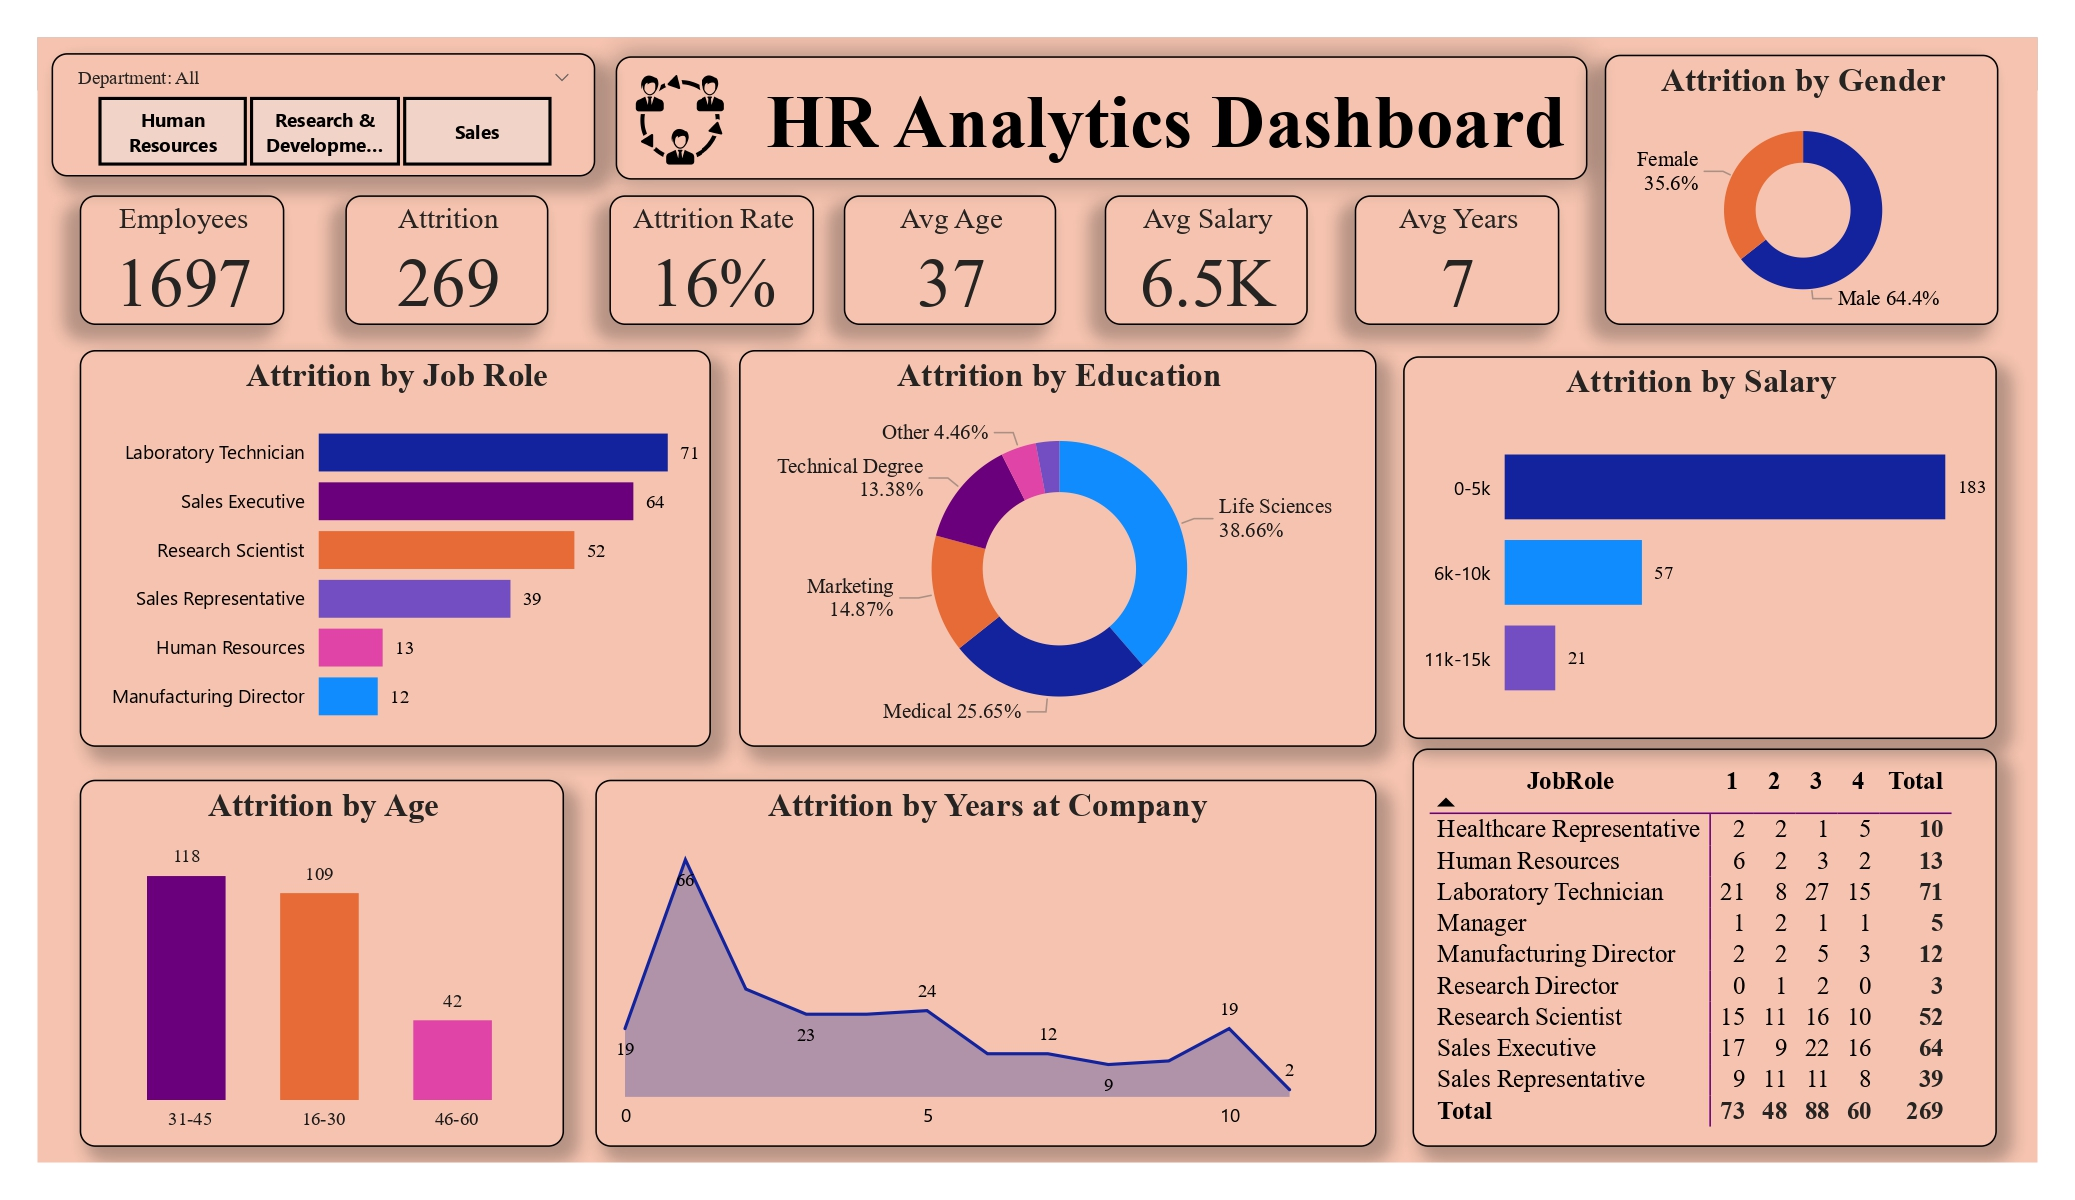

What the dashboard file says about the page in this screenshot:
{"tool":"powerbi","page":{"name":"Page 1","canvas":[1280,720],"ordinal":0},"visuals":[{"type":"textbox","box":[370.1,11.5,622.1,79.2],"z":0},{"type":"card","title":"Employees","fields":{"Values":["CountNonNull(HR-Employee-Attrition.EmployeeNumber)"]},"box":[27.2,101.2,130.3,82.7],"z":1000},{"type":"card","title":"Avg Age","fields":{"Values":["Avg(HR-Employee-Attrition.Age)"]},"box":[515.5,100.8,136.8,83.5],"z":2000},{"type":"card","title":"Attrition","fields":{"Values":["Sum(HR-Employee-Attrition.AttritionCount)"]},"box":[197.3,100.8,129.6,83.5],"z":3000},{"type":"card","title":"Attrition Rate","fields":{"Values":["HR-Employee-Attrition.AttritionRate"]},"box":[365.8,100.8,131,83.5],"z":4000},{"type":"card","title":"Avg Salary","fields":{"Values":["Avg(HR-Employee-Attrition.MonthlyIncome)"]},"box":[682.8,101.2,130.3,82.7],"z":5000},{"type":"card","title":"Avg Years","fields":{"Values":["Avg(HR-Employee-Attrition.YearsAtCompany)"]},"box":[843.3,101.2,130.3,82.7],"z":6000},{"type":"donutChart","title":" Attrition by Education","fields":{"Category":["HR-Employee-Attrition.EducationField"],"Y":["Sum(HR-Employee-Attrition.AttritionCount)"]},"box":[449,200,407.8,254.3],"z":7000},{"type":"columnChart","title":" Attrition by Age","fields":{"Y":["Sum(HR-Employee-Attrition.AttritionCount)"],"Category":["HR-Employee-Attrition.AgeGroup"]},"box":[27.2,475.3,309.6,235],"z":8000},{"type":"pivotTable","fields":{"Rows":["HR-Employee-Attrition.JobRole"],"Columns":["HR-Employee-Attrition.JobSatisfaction"],"Values":["Sum(HR-Employee-Attrition.AttritionCount)"]},"box":[879.8,455,374.4,254.9],"z":9000},{"type":"clusteredBarChart","title":"Attrition by Job Role","fields":{"Category":["HR-Employee-Attrition.JobRole"],"Y":["Sum(HR-Employee-Attrition.AttritionCount)"]},"box":[27.2,200,404.3,254.3],"z":10000},{"type":"areaChart","title":"Attrition by Years at Company","fields":{"Category":["HR-Employee-Attrition.YearsAtCompany"],"Y":["Sum(HR-Employee-Attrition.AttritionCount)"]},"box":[356.9,475.3,499.9,235],"z":11000},{"type":"barChart","title":"Attrition by Salary","fields":{"Y":["Sum(HR-Employee-Attrition.AttritionCount)"],"Category":["HR-Employee-Attrition.Salary"]},"box":[874.1,204.5,380.2,244.8],"z":12000},{"type":"donutChart","title":"Attrition by Gender","fields":{"Category":["HR-Employee-Attrition.Gender"],"Y":["Sum(HR-Employee-Attrition.AttritionCount)"]},"box":[1002.8,10.7,251.9,173.1],"z":13000},{"type":"slicer","fields":{"Values":["HR-Employee-Attrition.Department"]},"box":[8.6,10.1,348.5,79.2],"z":14000},{"type":"image","box":[373,14.4,76.3,76.3],"z":14001}]}

Visuals, with their boxes in screenshot pixels (x1, y1, x2, y2):
textbox: box=[581, 35, 1575, 161]
"Employees" card: box=[33, 178, 241, 310]
"Avg Age" card: box=[813, 177, 1032, 311]
"Attrition" card: box=[305, 177, 512, 311]
"Attrition Rate" card: box=[574, 177, 783, 311]
"Avg Salary" card: box=[1081, 178, 1289, 310]
"Avg Years" card: box=[1337, 178, 1546, 310]
" Attrition by Education" donutChart: box=[707, 336, 1359, 742]
" Attrition by Age" columnChart: box=[33, 776, 528, 1152]
pivotTable - HR-Employee-Attrition.JobRole x HR-Employee-Attrition.JobSatisfaction: box=[1396, 744, 1994, 1151]
"Attrition by Job Role" clusteredBarChart: box=[33, 336, 679, 742]
"Attrition by Years at Company" areaChart: box=[560, 776, 1359, 1152]
"Attrition by Salary" barChart: box=[1387, 343, 1994, 734]
"Attrition by Gender" donutChart: box=[1592, 33, 1995, 310]
slicer - HR-Employee-Attrition.Department: box=[3, 32, 560, 159]
image: box=[585, 39, 707, 161]
